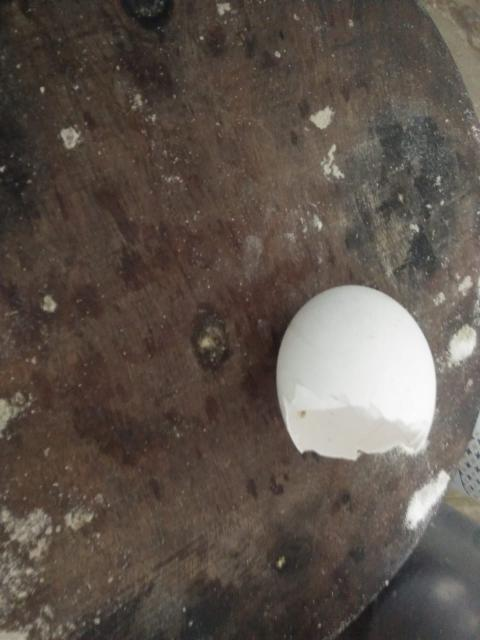Roto: (274, 283, 438, 462)
